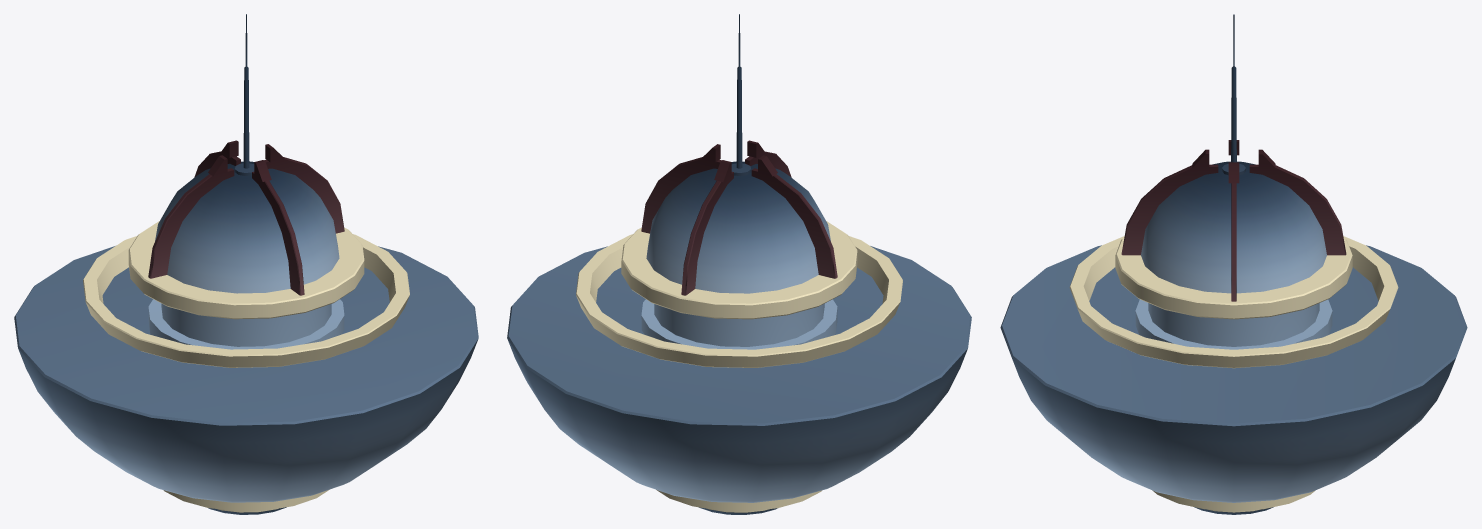
Rendered from ENV_Saucer_01.FBX.
3 views of the same model, side by side, from view 1: azimuth 30°, elevation 25°; view 2: azimuth 150°, elevation 25°; view 3: azimuth 270°, elevation 25° (orthographic).
Visible parts, largest first — view 1: ENV_Saucer_01; view 2: ENV_Saucer_01; view 3: ENV_Saucer_01.
Boxes of the visible parts, bbox=[...] form: ENV_Saucer_01: bbox=[14, 14, 478, 514]; ENV_Saucer_01: bbox=[507, 14, 971, 514]; ENV_Saucer_01: bbox=[1000, 14, 1467, 514].
Bounding box in the file's own units: 1145 × 1293 × 1145.
Materials: 2 (2 with a texture image).
